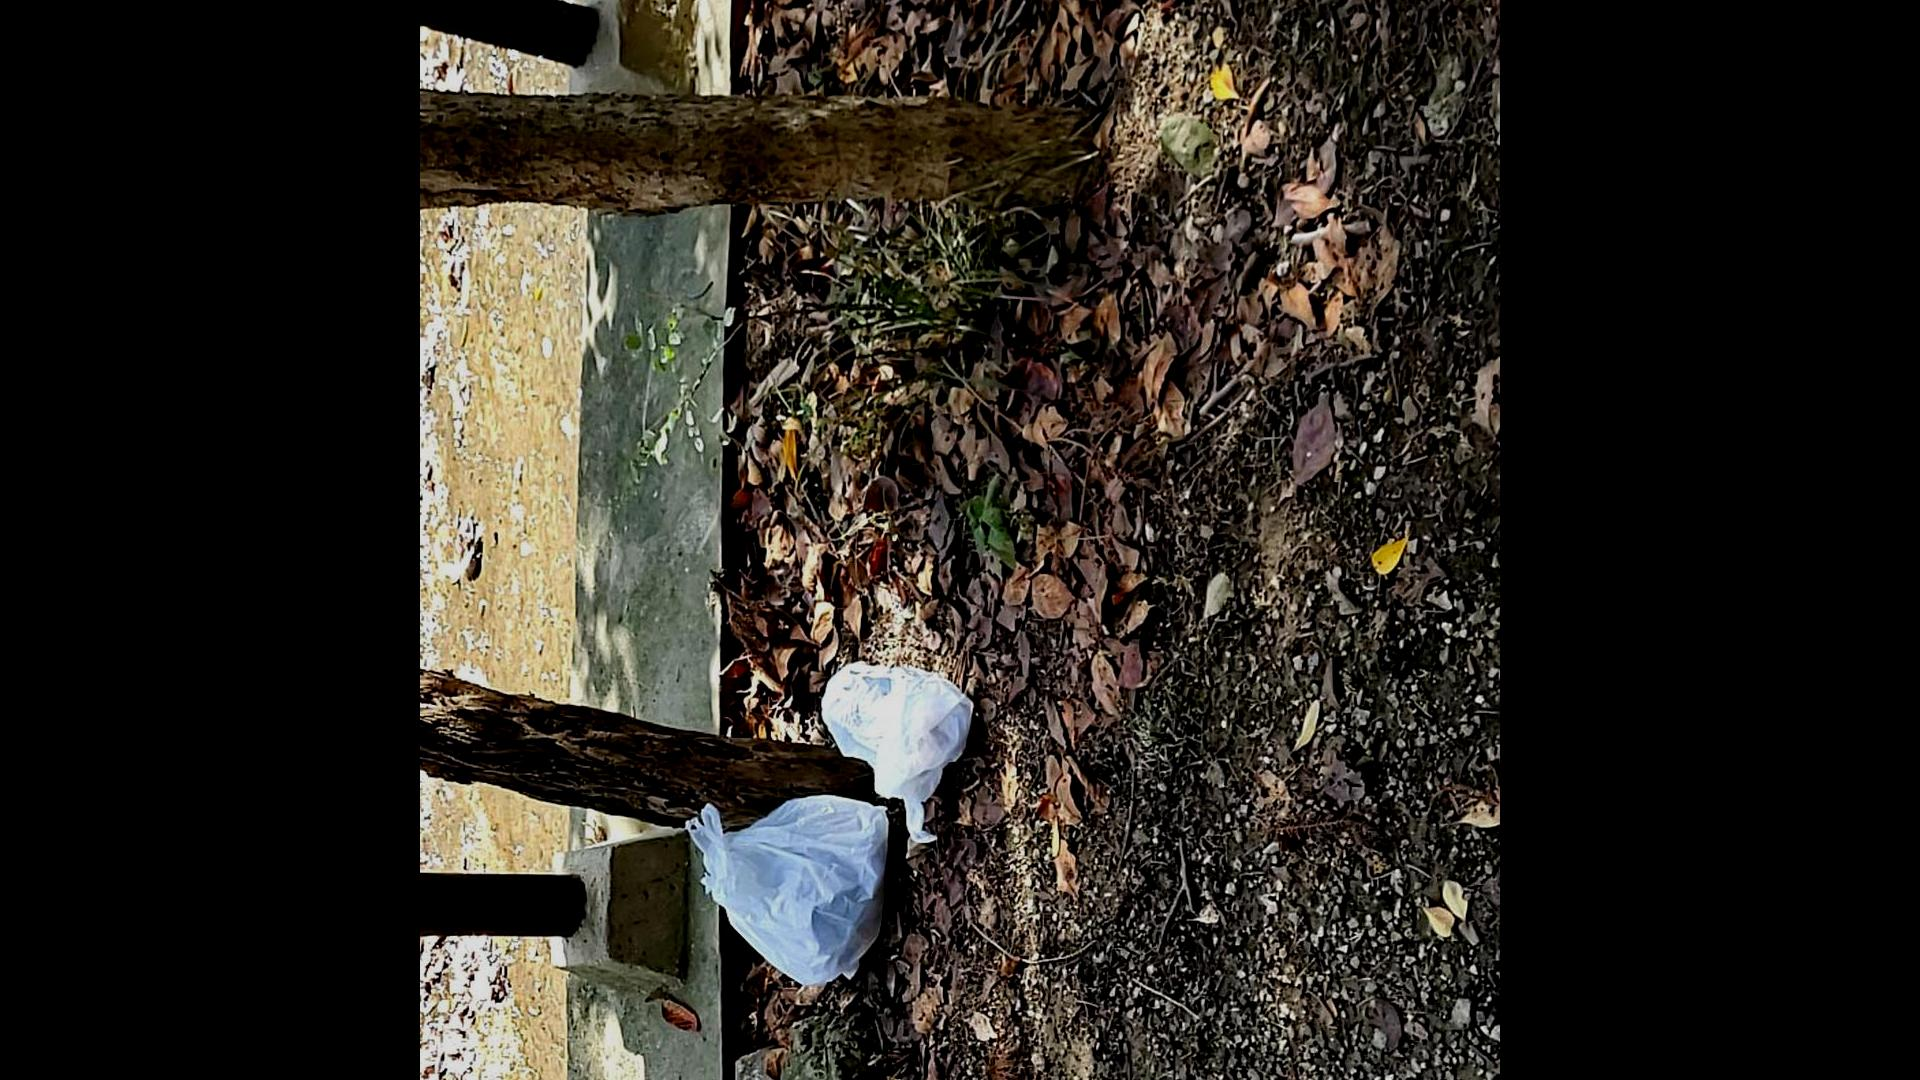white_bag: (673, 781, 895, 997), (823, 644, 992, 855)
